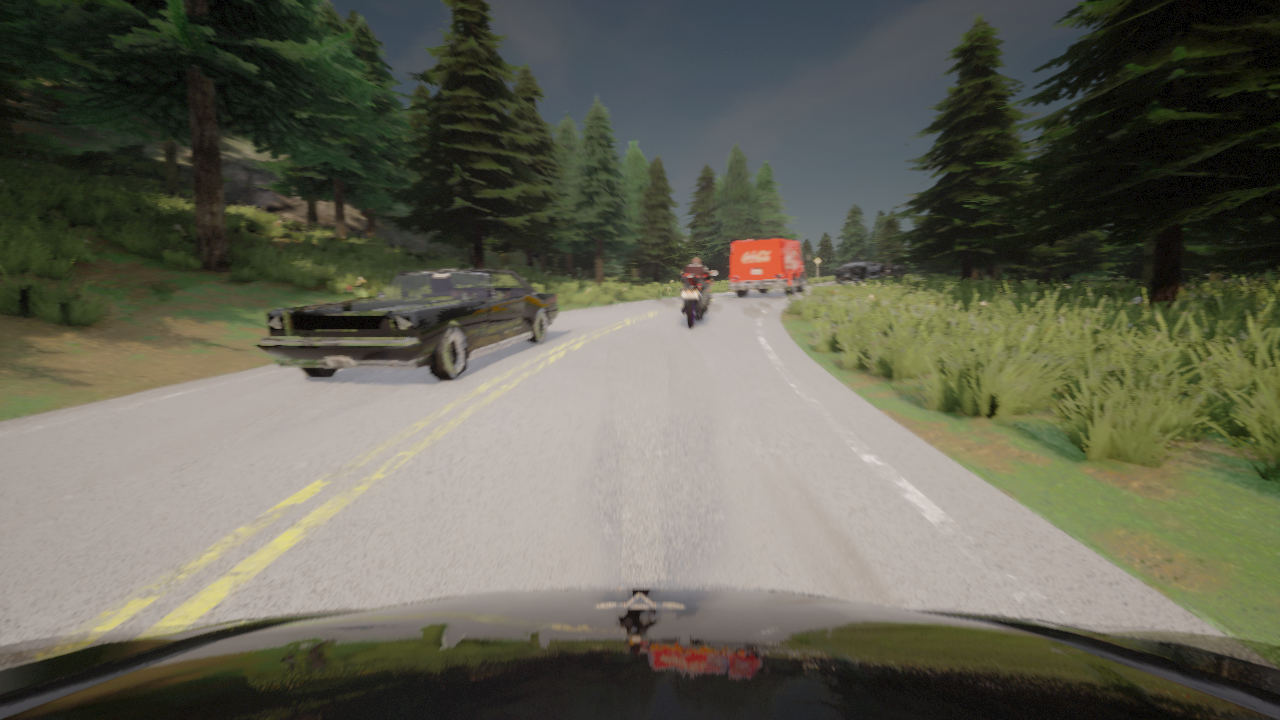cyclist: (0, 588, 1279, 719), (253, 268, 558, 380), (729, 238, 810, 296), (678, 271, 717, 329), (835, 258, 883, 284), (881, 262, 903, 277), (872, 262, 883, 267)
